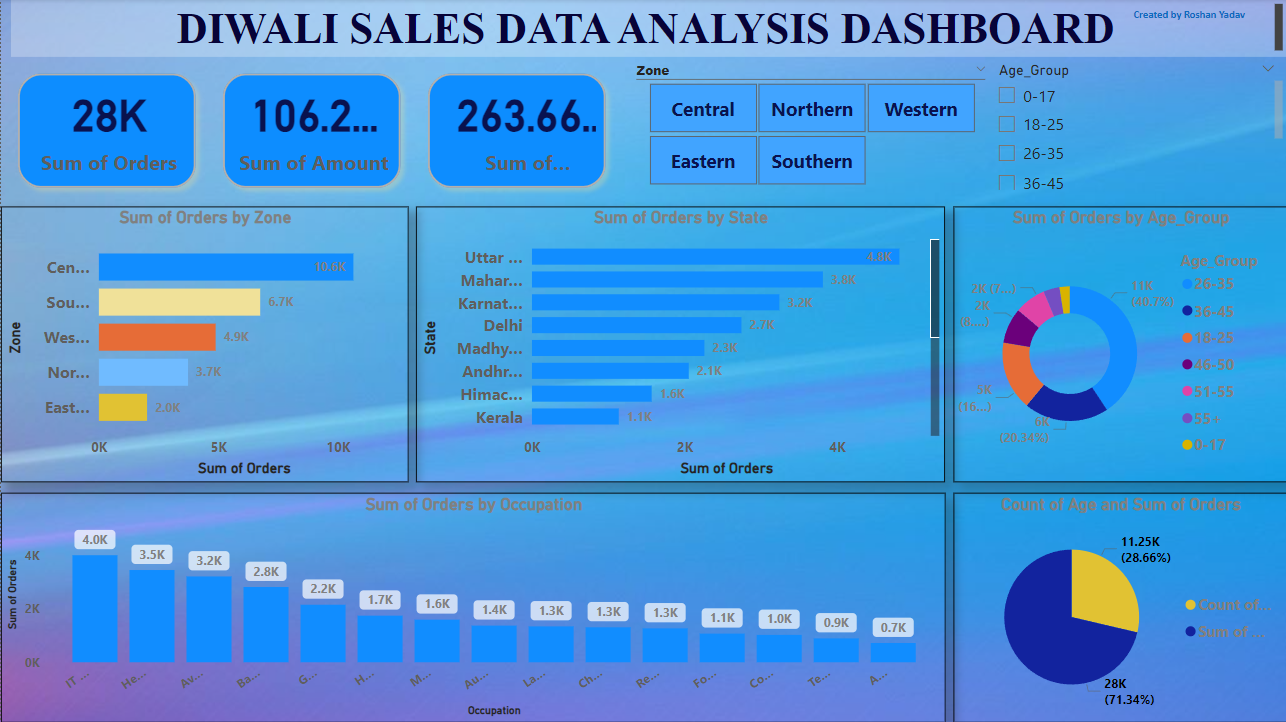

What the dashboard file says about the page in this screenshot:
{"tool":"powerbi","page":{"name":"Report1","canvas":[1280,720],"ordinal":0},"visuals":[{"type":"textbox","box":[9.6,0,1270.7,57.6],"z":0},{"type":"cardVisual","fields":{"Data":["Sum(DiwaliSalesData.Orders)","Sum(DiwaliSalesData.Amount)","Sum(DiwaliSalesData.TotalAmount Rs)"]},"box":[0,57.8,620,148.9],"z":1000},{"type":"slicer","fields":{"Values":["DiwaliSalesData.Zone"]},"box":[618.9,57.8,373.3,134.4],"z":2000},{"type":"barChart","fields":{"Category":["DiwaliSalesData.Zone"],"Y":["Sum(DiwaliSalesData.Orders)"]},"box":[0,206.7,405.6,274.4],"z":3000},{"type":"barChart","fields":{"Category":["DiwaliSalesData.State"],"Y":["Sum(DiwaliSalesData.Orders)"]},"box":[413.3,206.7,526.7,274.4],"z":4000},{"type":"donutChart","fields":{"Category":["DiwaliSalesData.Age_Group"],"Y":["Sum(DiwaliSalesData.Orders)"]},"box":[947.8,206.7,332.2,274.4],"z":5000},{"type":"lineClusteredColumnComboChart","fields":{"Category":["DiwaliSalesData.Occupation"],"Y":["Sum(DiwaliSalesData.Orders)"]},"box":[0,491.1,940,228.9],"z":6000},{"type":"pieChart","fields":{"Y":["CountNonNull(DiwaliSalesData.Age)","Sum(DiwaliSalesData.Orders)"]},"box":[948,491,332,229],"z":7000},{"type":"slicer","fields":{"Values":["DiwaliSalesData.Age_Group"]},"box":[980,57.8,300,137.8],"z":8000},{"type":"textbox","box":[1113.3,0,138.1,32.3],"z":9000}]}

Visuals, with their boxes in screenshot pixels (x1, y1, x2, y2), scaled from the page's 1280x720 canvas onto the 1286x722 screenshot:
textbox: 10/0/1285/58
cardVisual - Sum(DiwaliSalesData.Orders) x Sum(DiwaliSalesData.Amount): 0/58/623/207
slicer - DiwaliSalesData.Zone: 622/58/997/193
barChart - DiwaliSalesData.Zone x Sum(DiwaliSalesData.Orders): 0/207/408/482
barChart - DiwaliSalesData.State x Sum(DiwaliSalesData.Orders): 415/207/944/482
donutChart - DiwaliSalesData.Age_Group x Sum(DiwaliSalesData.Orders): 952/207/1285/482
lineClusteredColumnComboChart - DiwaliSalesData.Occupation x Sum(DiwaliSalesData.Orders): 0/492/944/721
pieChart - CountNonNull(DiwaliSalesData.Age) x Sum(DiwaliSalesData.Orders): 952/492/1285/721
slicer - DiwaliSalesData.Age_Group: 985/58/1285/196
textbox: 1119/0/1257/32
